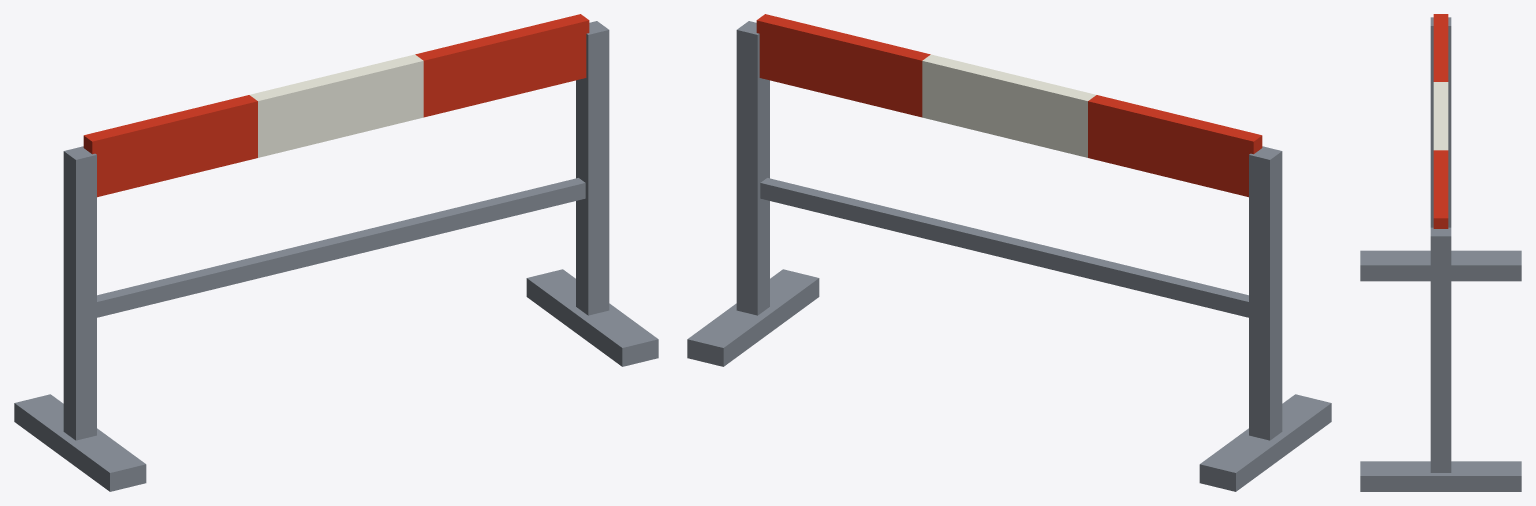
The model's file is barrier.obj.
3 renders of one model, left to right at view 1: azimuth 30°, elevation 25°; view 2: azimuth 150°, elevation 25°; view 3: azimuth 270°, elevation 25°, orthographic. The views are drawn at different scales.
Bounding box in the file's own units: 1.82 × 0.99 × 0.55.
